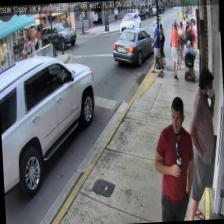person: (181, 67, 221, 220), (150, 96, 196, 222)
